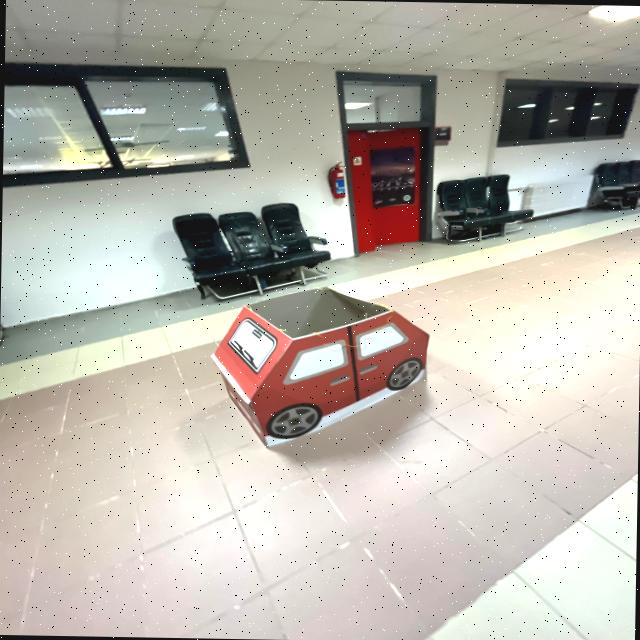red_car: (200, 276, 440, 456)
